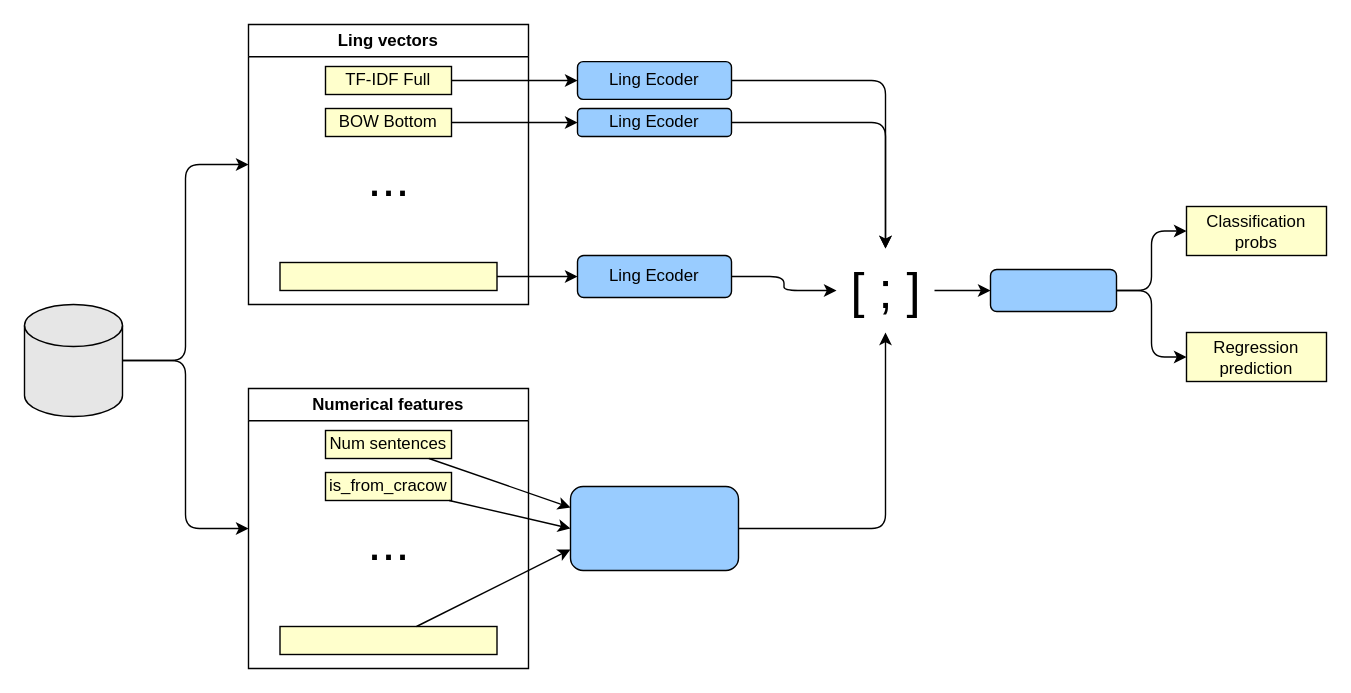
Some shapes in this 1351 by 693 pixel diagram are drawn without their labels. The shapes that lost their labels are listed below. From the top down, each one's centre as x and y in pixels, then its label:
At (x=388, y=275): "BERT Sentence Embedding".
At (x=1052, y=290): "Post Net".
At (x=72, y=359): "Processed DS".
At (x=653, y=527): "Numerical Features Encoder".
At (x=388, y=639): "(Velocity, Volume)".
